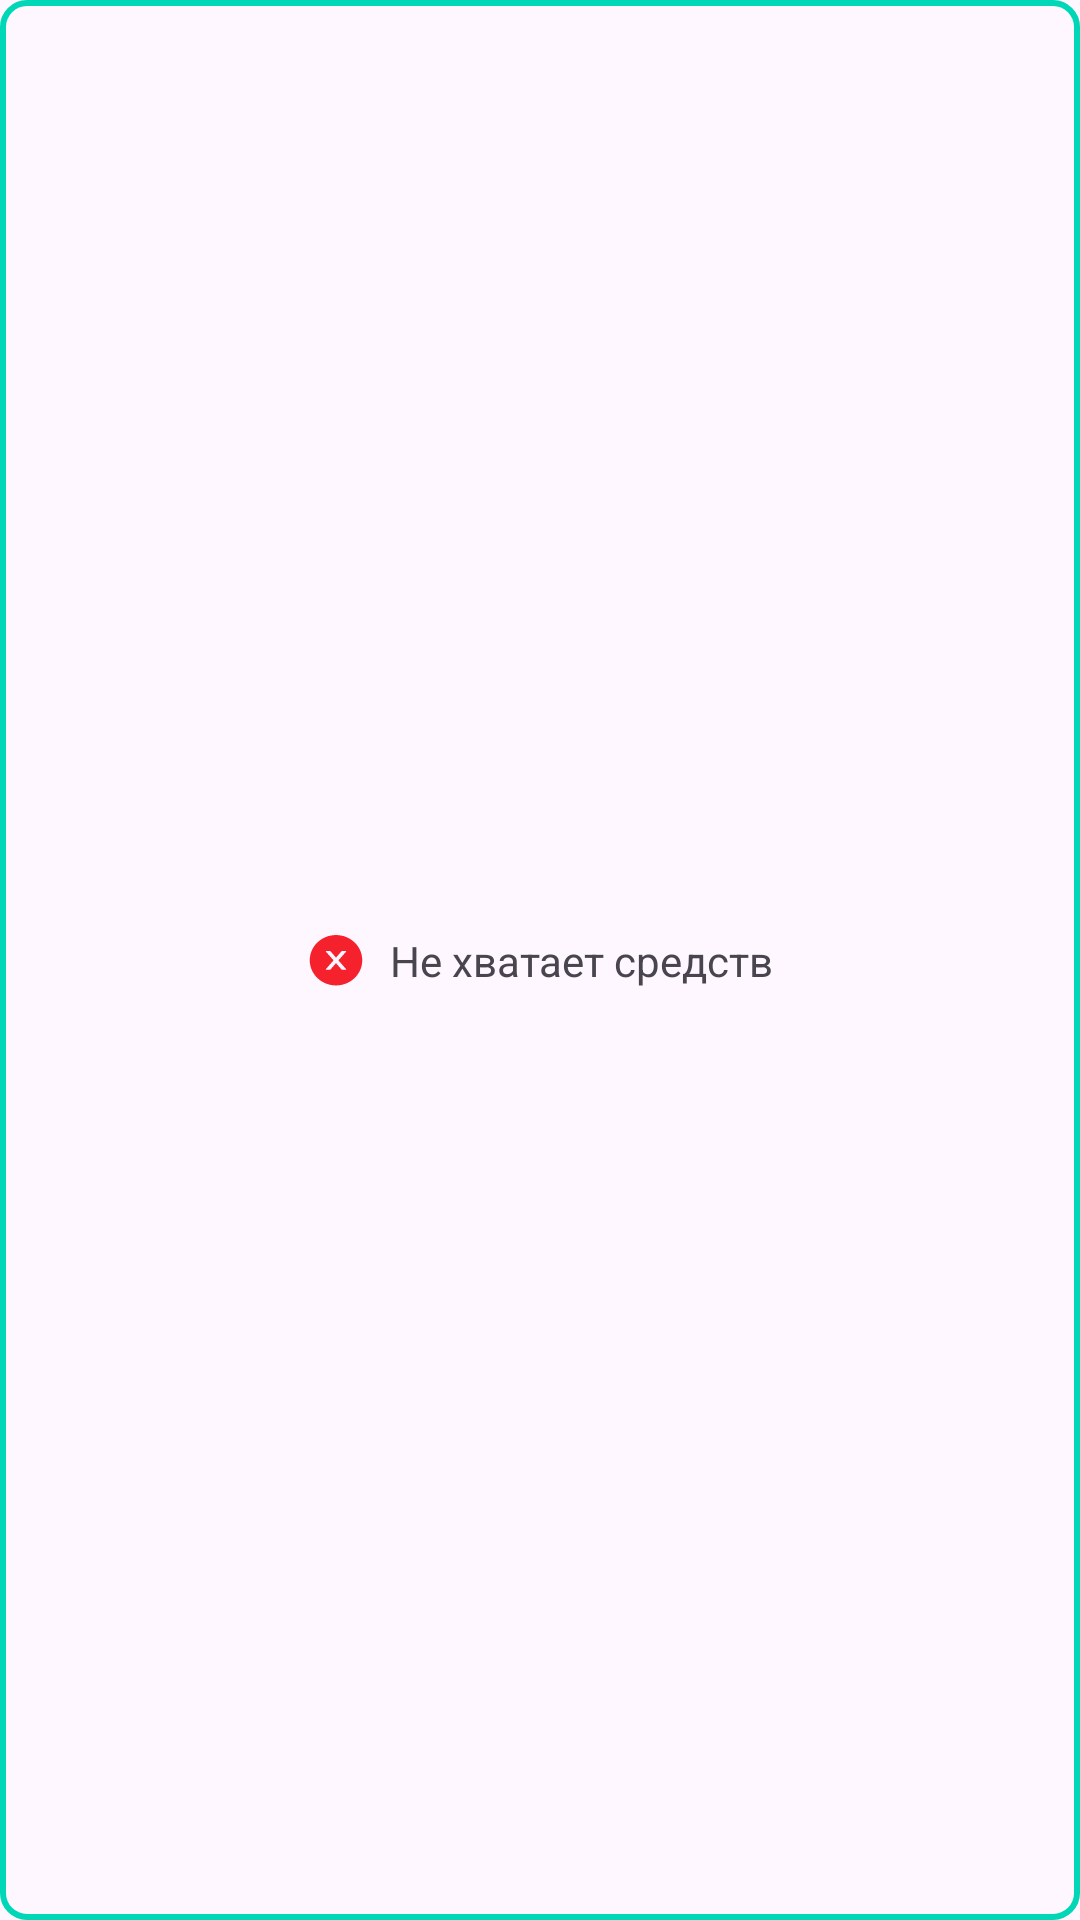

Named icons in this screenshot (1080w x 1920h) and their bounding boxes, (x1, y1, x2, y2):
failed: (309, 935, 363, 986)
